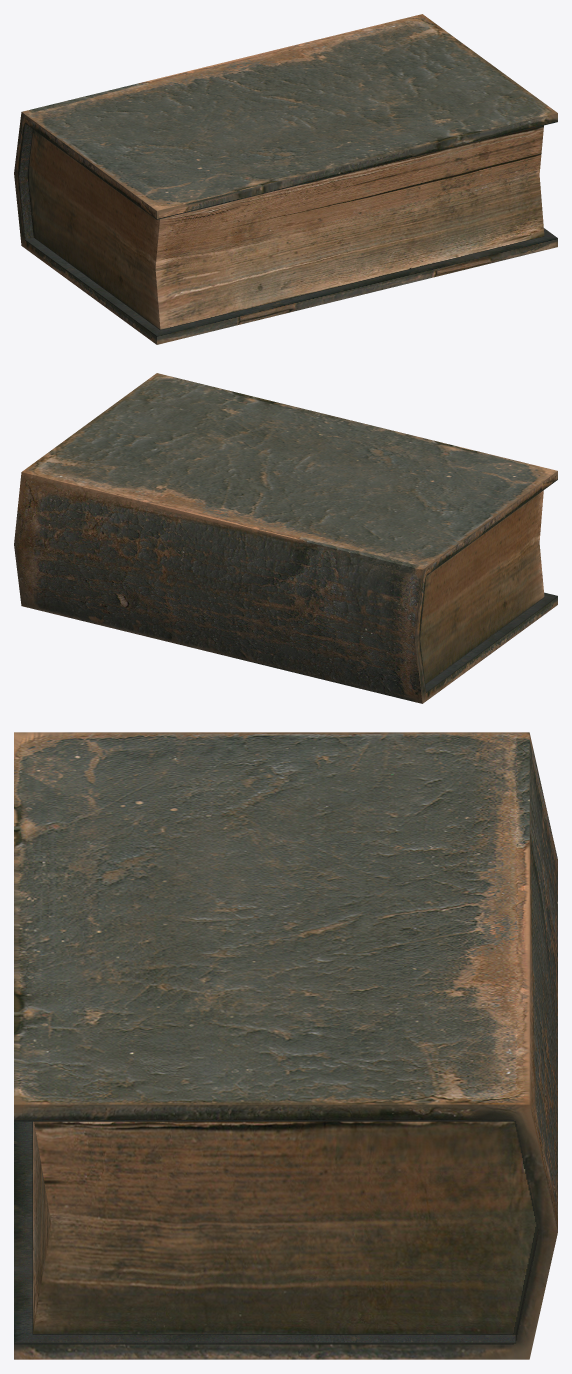
File: old-bible-1825.glb
The picture shows the model from 3 angles, top to bottom: view 1: azimuth 30°, elevation 25°; view 2: azimuth 150°, elevation 25°; view 3: azimuth 270°, elevation 25°; orthographic projection. The views are drawn at different scales.
Parts seen in each view (by area): view 1: Old_Bible; view 2: Old_Bible; view 3: Old_Bible.
Boxes of the visible parts, left/top/right/bottom form: Old_Bible: left=14, top=14, right=557, bottom=344; Old_Bible: left=14, top=373, right=557, bottom=703; Old_Bible: left=14, top=732, right=557, bottom=1359.
Size of the model in its own units: 2.35 by 0.75 by 1.45.
1 material, 1 textured.
